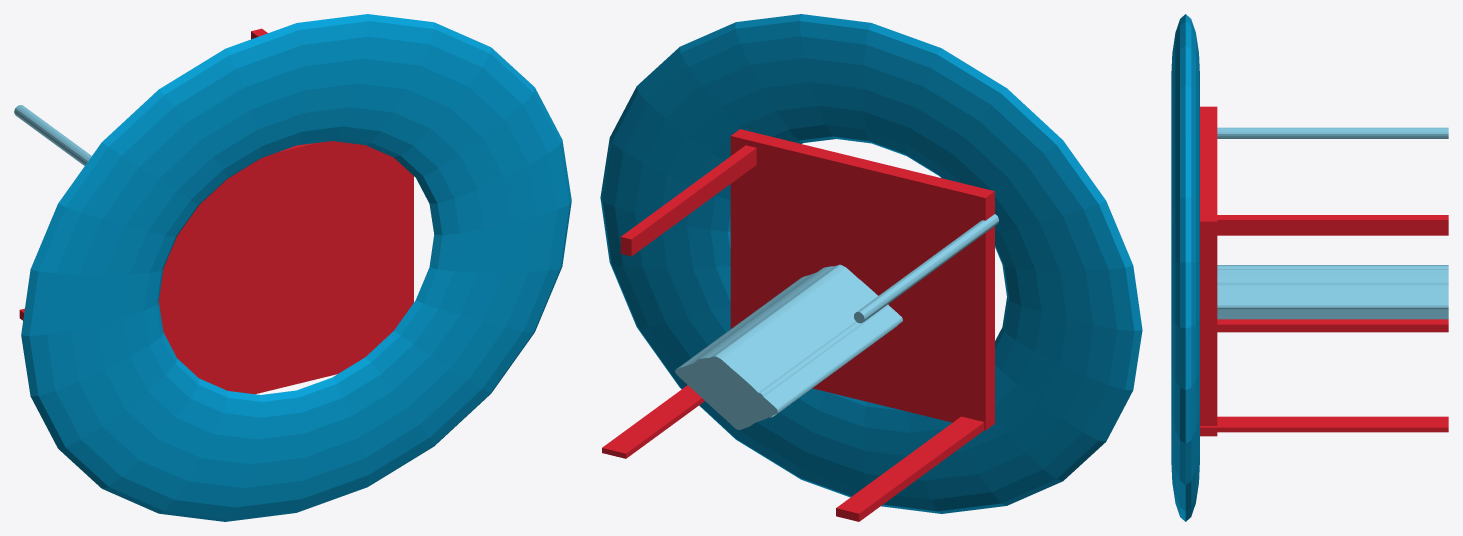
File: tinker.obj
The picture shows the model from 3 angles, left to right: view 1: azimuth 30°, elevation 25°; view 2: azimuth 150°, elevation 25°; view 3: azimuth 270°, elevation 25°; orthographic projection. The views are drawn at different scales.
Parts seen in each view (by area): view 1: group_0_40919, group_0_15277357, group_0_8768998; view 2: group_0_40919, group_0_15277357, group_0_8768998; view 3: group_0_15277357, group_0_8768998, group_0_40919.
Part boxes in pixels (x1,y1,x2,y2): group_0_40919: (21, 14, 571, 521); group_0_15277357: (19, 28, 413, 394); group_0_8768998: (14, 105, 91, 165); group_0_40919: (600, 14, 1142, 513); group_0_15277357: (602, 129, 994, 521); group_0_8768998: (675, 214, 998, 429); group_0_15277357: (1200, 106, 1448, 436); group_0_8768998: (1217, 127, 1448, 319); group_0_40919: (1171, 14, 1199, 521).
Bounding box in the file's own units: 100 × 85 × 48.
